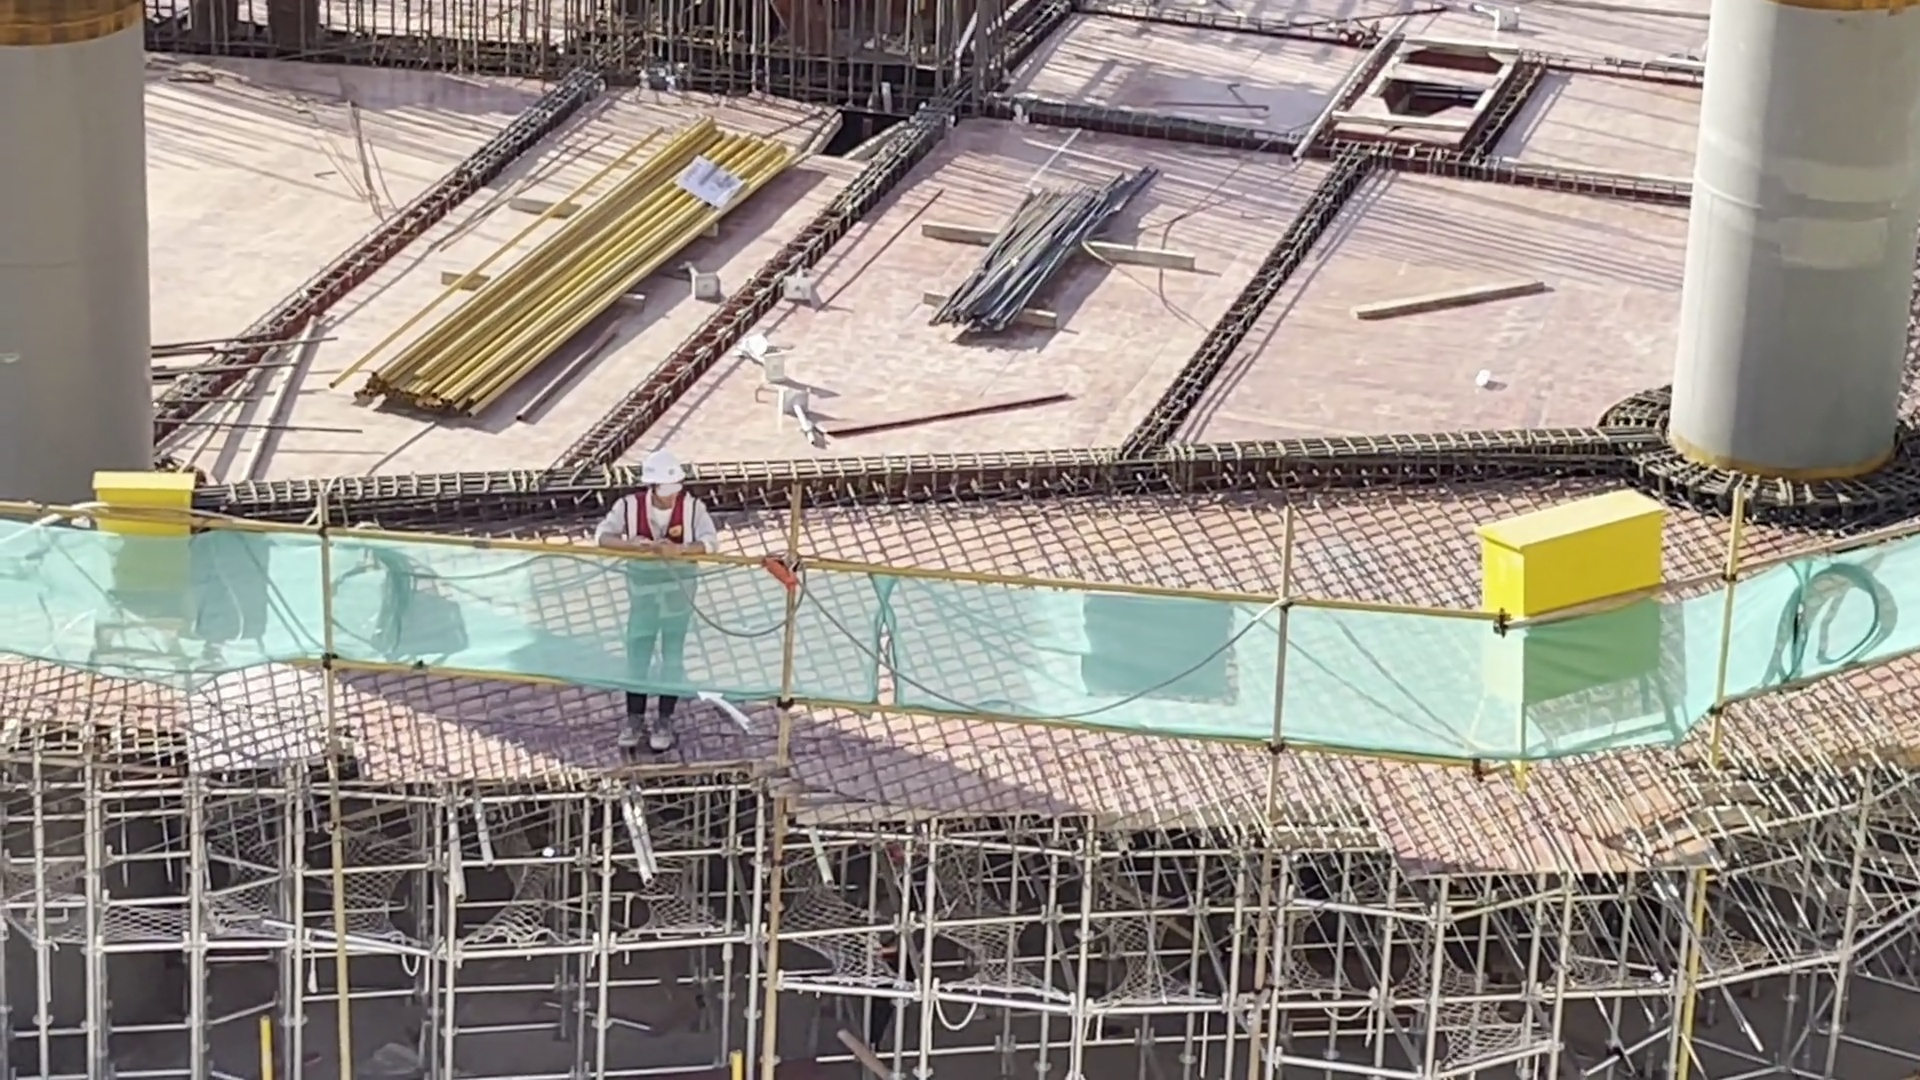ebox: (1481, 497, 1668, 737), (89, 457, 196, 596)
helmet: (638, 462, 683, 506), (878, 834, 916, 876)
person: (613, 466, 679, 751), (846, 833, 917, 1080)
rebar: (957, 167, 1128, 317)
vest: (626, 504, 688, 664), (866, 881, 909, 986)
